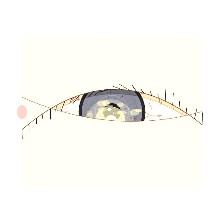corneal_ulcer: (86, 100, 135, 139)
